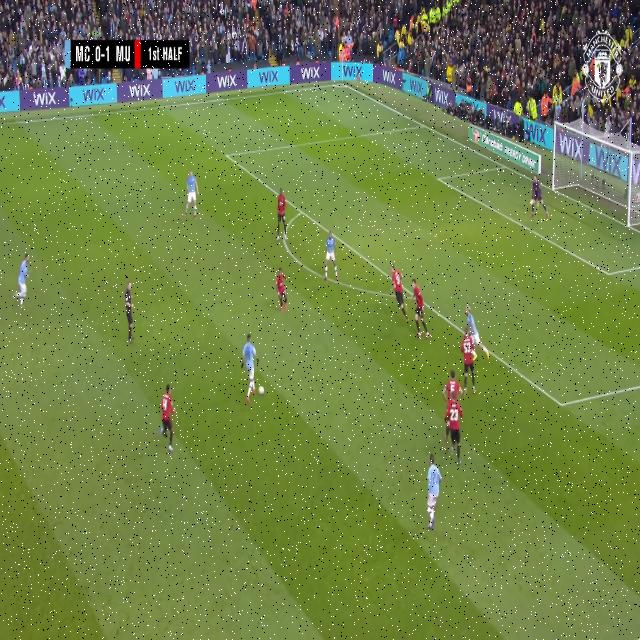Ball: (258, 384, 264, 398)
GoalKeeper: (529, 176, 550, 220)
TEAM 1: (460, 333, 483, 397), (159, 383, 177, 453), (447, 394, 463, 466), (390, 263, 410, 318), (411, 280, 427, 340), (276, 189, 288, 246), (443, 365, 462, 398), (276, 267, 288, 312)
TEAM 2: (426, 456, 444, 530), (240, 334, 259, 404), (462, 305, 486, 354), (14, 253, 31, 310), (323, 231, 338, 283), (185, 171, 200, 220)
